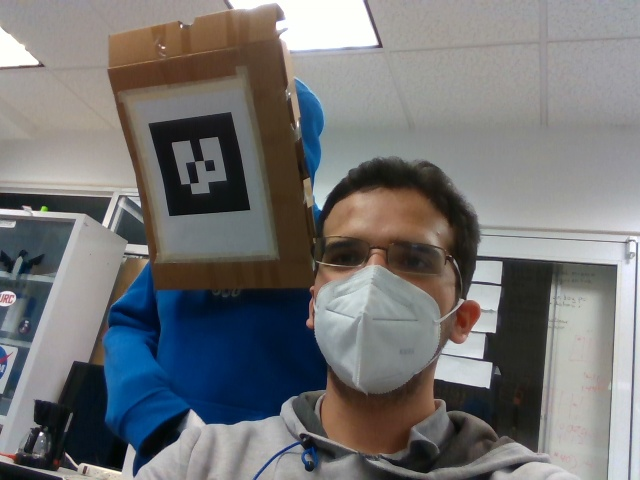ar3: (147, 111, 257, 221)
